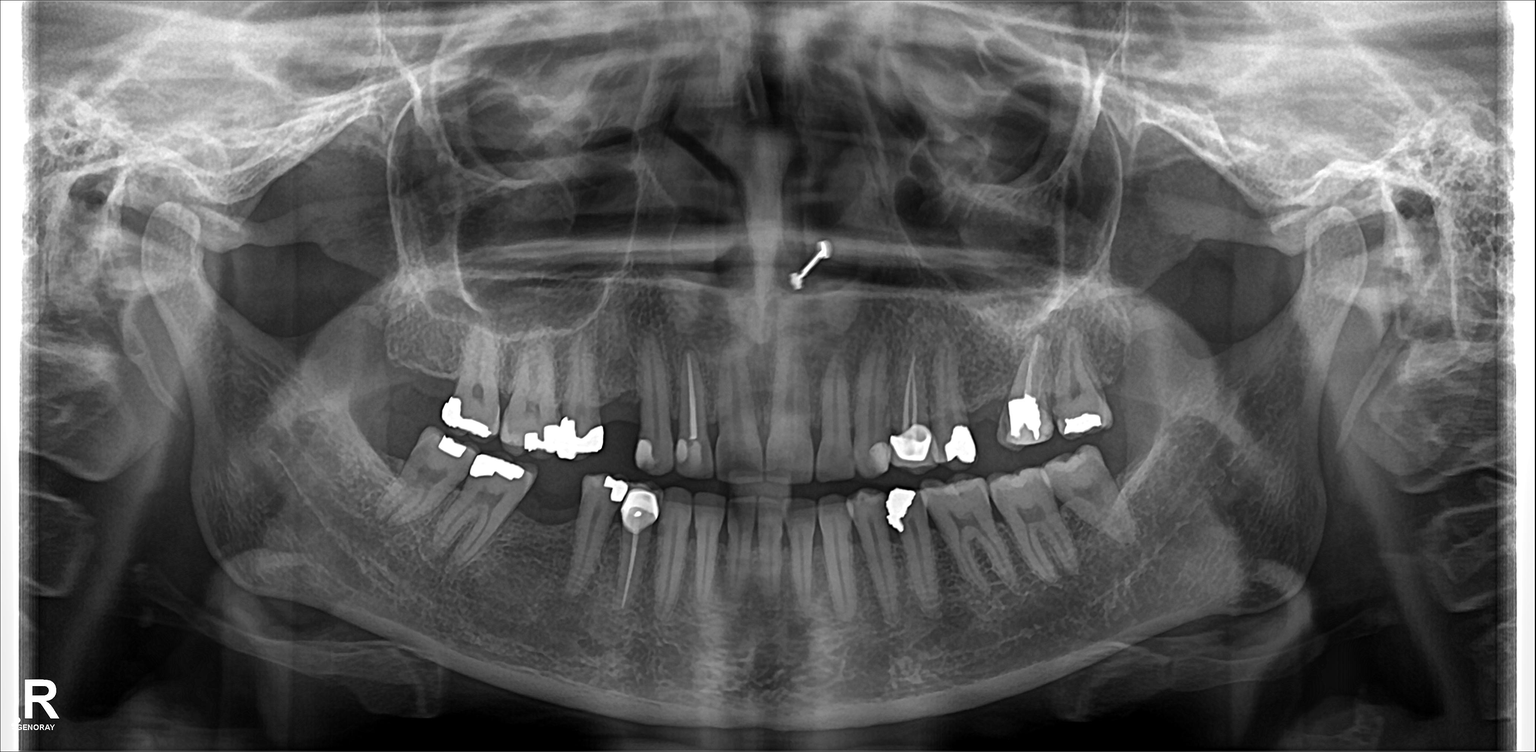Endodontically Treated Tooth: (669, 344, 715, 475), (894, 363, 937, 466), (620, 493, 657, 606), (1011, 344, 1041, 444)
Missing Tooth: (529, 478, 577, 576), (968, 359, 1007, 447), (417, 333, 457, 413), (376, 322, 411, 410), (596, 367, 633, 447), (1106, 333, 1140, 416), (372, 424, 414, 484), (1114, 445, 1146, 515)
